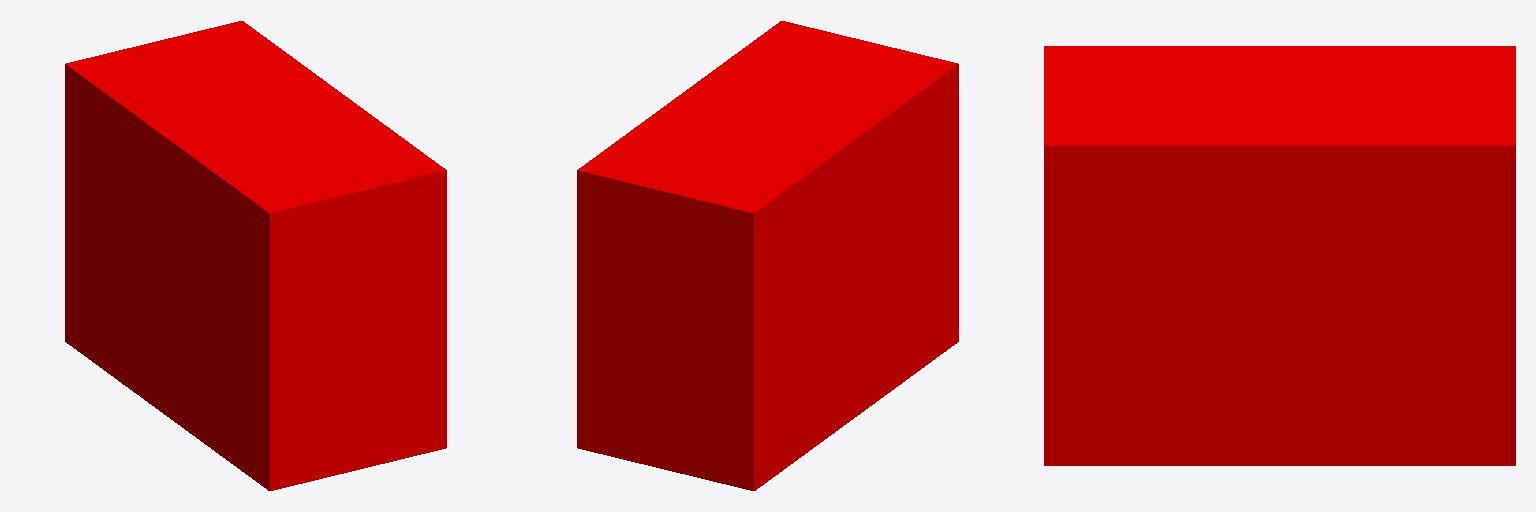
The robot description file, URDF, robot "bot":
<?xml version="1.0" ?>
<robot name="bot" xmlns:xacro="http://www.ros.org/wiki/xacro">

    <link name="base_footprint"/>

    <link name="base_link">
        <visual>
            <origin xyz="0.0 0.0 0.0" rpy="0.0 0.0 0.0"/>
            <geometry>
                <box size="0.1 0.2 0.15"/>
            </geometry>
            <material name="red">
                <color rgba="1.0 0.0 0.0 1.0"/>
            </material>
        </visual>
    </link>

    <joint name="base_joint" type="fixed">
        <origin xyz="0.0 0.0 0.15" rpy="0.0 0.0 0.0"/>
        <parent link="base_footprint"/>
        <child link="base_link"/>
    </joint>

</robot>

--- Render facts (derived) ---
The picture shows the robot from 3 angles, left to right: view 1: azimuth 30°, elevation 25°; view 2: azimuth 150°, elevation 25°; view 3: azimuth 270°, elevation 25°; orthographic projection.
Robot: bot — 2 links, 1 joints (1 fixed); root link base_footprint; default pose: every joint at zero.
Links seen in each view (by area): view 1: base_link; view 2: base_link; view 3: base_link.
Link boxes in pixels (x1=…): base_link: x1=65, y1=21, x2=446, y2=490; base_link: x1=577, y1=21, x2=958, y2=490; base_link: x1=1044, y1=46, x2=1515, y2=465.
Size in the robot's own frame: 0.1 by 0.2 by 0.15 metres.
Geometry: primitives only (box / cylinder / sphere), no mesh files.
